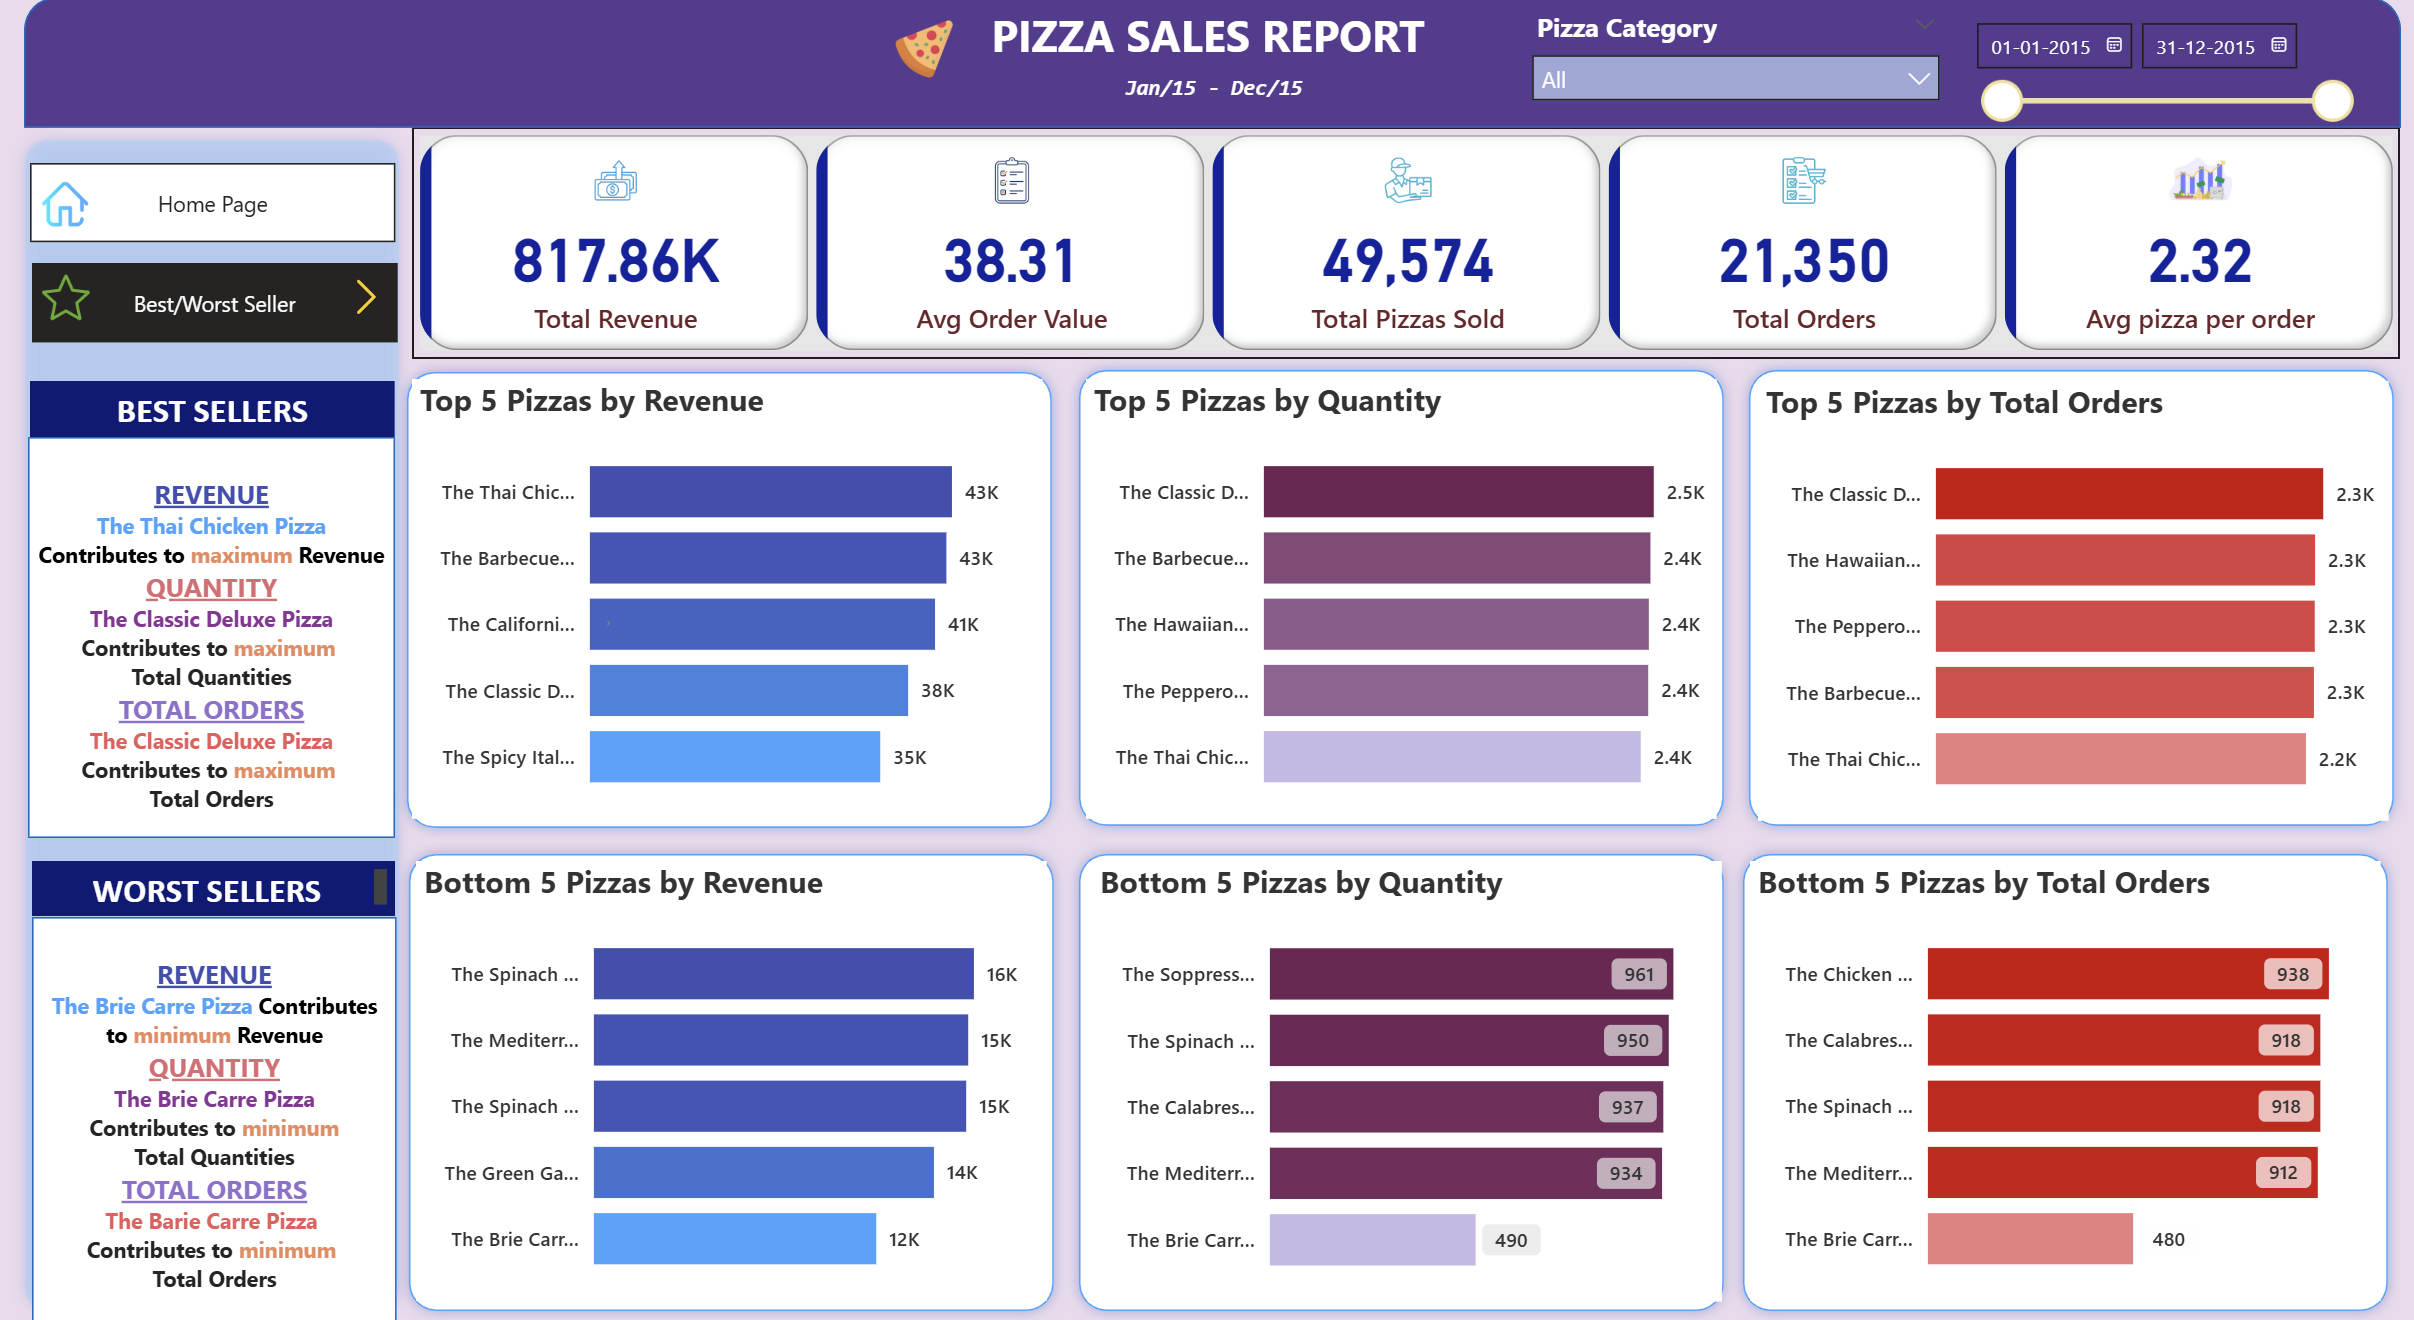

The page's visual inventory and layout, read from the dashboard file:
{"tool":"powerbi","page":{"name":"Best/Worst Seller","canvas":[1500,820],"ordinal":1},"visuals":[{"type":"cardVisual","fields":{"Data":["pizza_sales.Total Revenue","pizza_sales.Avg Order Value","pizza_sales.Total Pizzas Sold","pizza_sales.Total Orders","pizza_sales.Avg pizza per order"]},"box":[257,80.9,1230,143.5],"z":0},{"type":"shape","box":[17,0,1470,80.9],"z":1000},{"type":"textbox","box":[606.5,0,287,49.6],"z":2000},{"type":"textbox","box":[686.1,40.4,133,31.3],"z":3000},{"type":"image","box":[540,9.1,66.5,47],"z":4000},{"type":"shape","box":[246.5,224.3,414.8,298],"z":5000},{"type":"shape","box":[9.9,80.4,247.4,739.6],"z":6000},{"type":"textbox","box":[20.9,237.4,225.7,39.1],"z":7000},{"type":"textbox","box":[19.6,272.6,227,247.8],"z":8000},{"type":"textbox","box":[22.2,534.8,224.3,33.9],"z":9000},{"type":"slicer","fields":{"Values":["pizza_sales.pizza_category"]},"box":[939.7,3,271.9,74.7],"z":10000},{"type":"slicer","fields":{"Values":["pizza_sales.order_date"]},"box":[1211.7,6,254,74.7],"z":11000},{"type":"shape","box":[661.3,223,414.8,298],"z":12000},{"type":"shape","box":[1076.1,223,414.8,298],"z":13000},{"type":"shape","box":[247.8,521.7,414.8,298.7],"z":14000},{"type":"shape","box":[661.3,521.7,414.8,298.7],"z":15000},{"type":"shape","box":[1072.2,521.7,414.8,298.7],"z":16000},{"type":"barChart","title":"Top 5 Pizzas by Revenue","fields":{"Category":["pizza_sales.pizza_name"],"Y":["pizza_sales.Total Revenue"]},"box":[257,236.1,389.9,271.9],"z":17000},{"type":"barChart","title":"Bottom 5 Pizzas by Revenue","fields":{"Category":["pizza_sales.pizza_name"],"Y":["pizza_sales.Total Revenue"]},"box":[260,534.9,389.9,271.9],"z":18000},{"type":"barChart","title":"Top 5 Pizzas by Quantity","fields":{"Category":["pizza_sales.pizza_name"],"Y":["pizza_sales.Total Pizzas Sold"]},"box":[673.8,236.1,389.9,271.9],"z":19000},{"type":"barChart","title":"Bottom 5 Pizzas by Quantity","fields":{"Category":["pizza_sales.pizza_name"],"Y":["pizza_sales.Total Pizzas Sold"]},"box":[678.2,534.7,389.4,272.7],"z":20000},{"type":"barChart","title":"Top 5 Pizzas by Total Orders","fields":{"Category":["pizza_sales.pizza_name"],"Y":["pizza_sales.Total Orders"]},"box":[1089.1,237.5,389.9,271.9],"z":21000},{"type":"barChart","title":"Bottom 5 Pizzas by Total Orders","fields":{"Category":["pizza_sales.pizza_name"],"Y":["pizza_sales.Total Orders"]},"box":[1084.7,534.9,389.9,271.9],"z":22000},{"type":"textbox","box":[22.2,568.7,225.7,251.7],"z":23000},{"type":"pageNavigator","box":[22.3,164.5,226.3,49.5],"z":24000},{"type":"pageNavigator","box":[21,102.7,226.3,49.5],"z":25000},{"type":"image","box":[371.7,371.7,13,30],"z":26000},{"type":"image","box":[209,169.4,39.6,32.2],"z":27000},{"type":"image","box":[23.5,108.8,38.3,38.3],"z":28000},{"type":"image","box":[23.5,164.5,39.6,42.1],"z":29000}]}

Visuals, with their boxes in screenshot pixels (x1, y1, x2, y2), scaled from the page's 1500x820 canvas onto the 2414x1320 screenshot:
cardVisual - pizza_sales.Total Revenue x pizza_sales.Avg Order Value: (414,130,2393,361)
shape: (27,0,2393,130)
textbox: (976,0,1438,80)
textbox: (1104,65,1318,115)
image: (869,15,976,90)
shape: (397,361,1064,841)
shape: (16,129,414,1319)
textbox: (34,382,397,445)
textbox: (32,439,397,838)
textbox: (36,861,397,915)
slicer - pizza_sales.pizza_category: (1512,5,1950,125)
slicer - pizza_sales.order_date: (1950,10,2359,130)
shape: (1064,359,1732,839)
shape: (1732,359,2399,839)
shape: (399,840,1066,1319)
shape: (1064,840,1732,1319)
shape: (1726,840,2393,1319)
"Top 5 Pizzas by Revenue" barChart: (414,380,1041,818)
"Bottom 5 Pizzas by Revenue" barChart: (418,861,1046,1299)
"Top 5 Pizzas by Quantity" barChart: (1084,380,1712,818)
"Bottom 5 Pizzas by Quantity" barChart: (1091,861,1718,1300)
"Top 5 Pizzas by Total Orders" barChart: (1753,382,2380,820)
"Bottom 5 Pizzas by Total Orders" barChart: (1746,861,2373,1299)
textbox: (36,915,399,1319)
pageNavigator: (36,265,400,344)
pageNavigator: (34,165,398,245)
image: (598,598,619,647)
image: (336,273,400,325)
image: (38,175,99,237)
image: (38,265,102,333)
